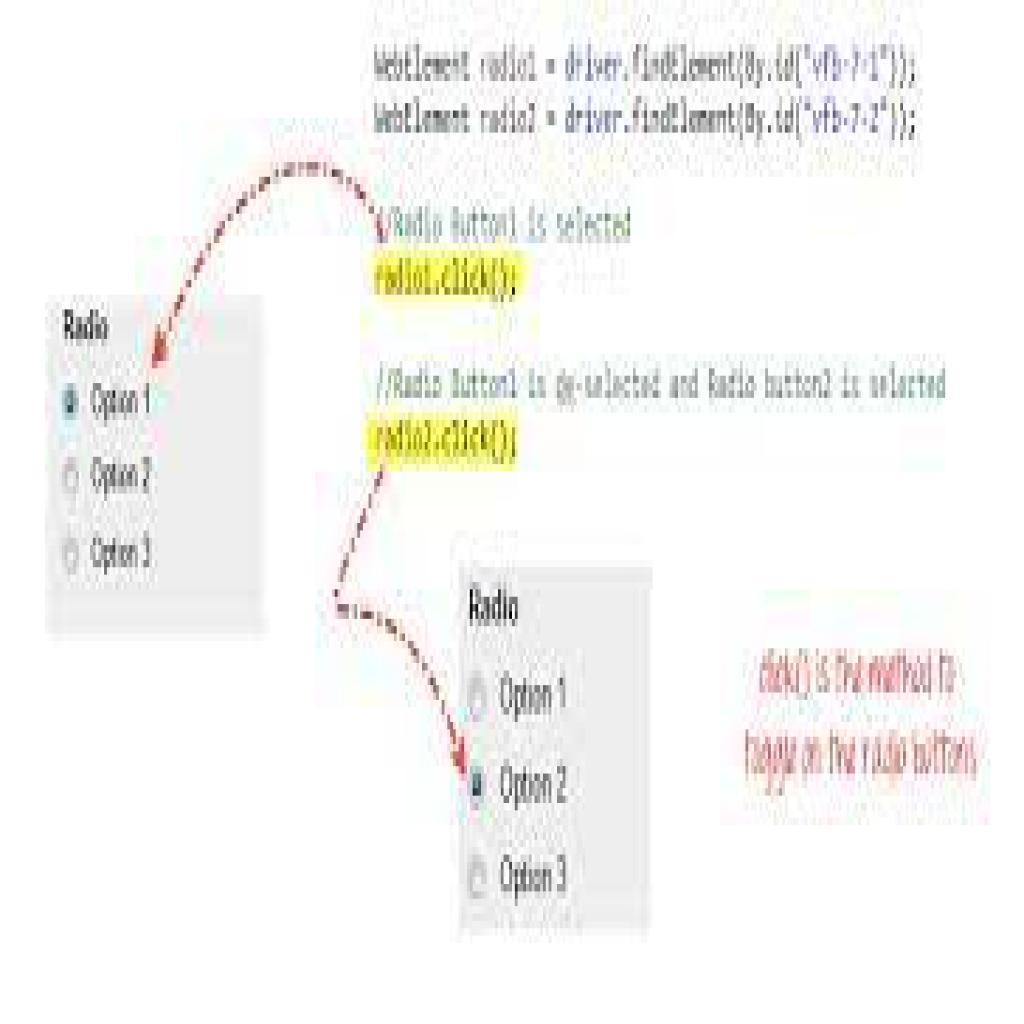radio: (467, 670, 490, 728), (466, 765, 490, 812), (468, 855, 491, 903), (62, 380, 83, 426), (63, 457, 83, 499), (62, 537, 81, 581)
